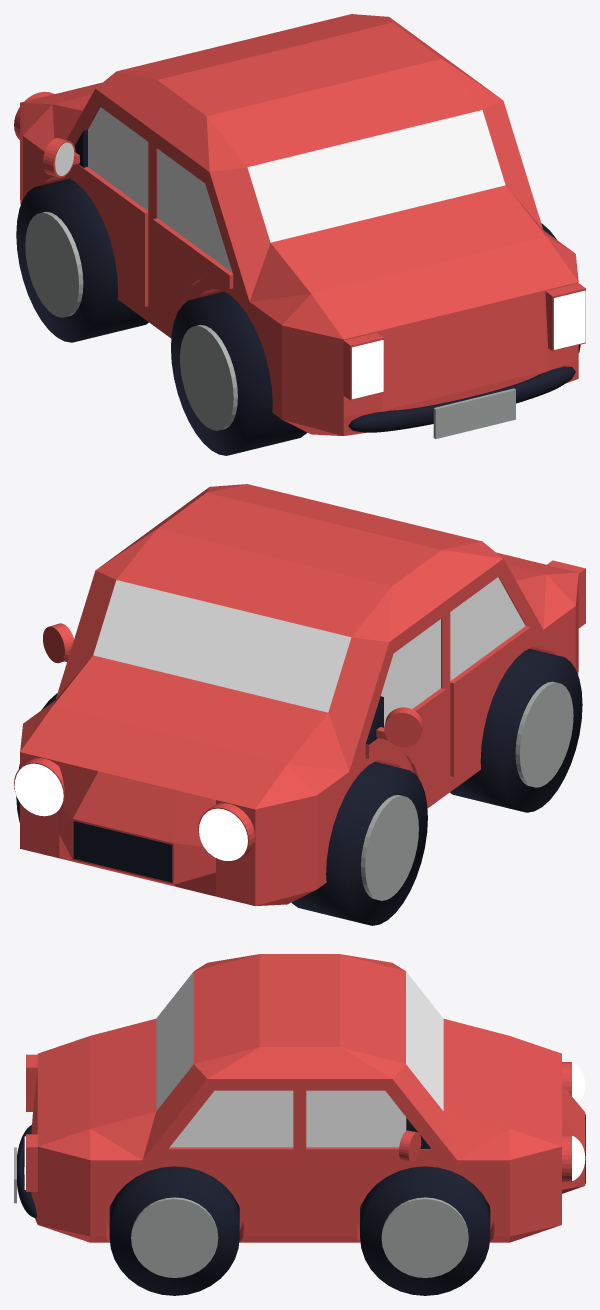
The model's file is car.glb.
3 views of the same model, one above another, from view 1: azimuth 30°, elevation 25°; view 2: azimuth 150°, elevation 25°; view 3: azimuth 270°, elevation 25° (orthographic). The views are drawn at different scales.
Visible parts, largest first — view 1: car, front back windows, tire_back_left, tire_front_left, door_front_left, door_back_left, backlight, bumper, license plate, backlight cover; view 2: car, front back windows, tire_front_left, tire_back_left, door_back_left, door_front_left, headlight, grill, headlight cover, door_front_right, backlight cover; view 3: car, tire_front_right, tire_back_right, door_front_right, door_back_right, front back windows, backlight cover, headlight, bumper, headlight cover.
Part boxes in pixels (left/top/right/bottom): car: left=20, top=14, right=578, bottom=435; front back windows: left=247, top=110, right=505, bottom=242; tire_back_left: left=171, top=292, right=307, bottom=455; tire_front_left: left=16, top=178, right=148, bottom=342; door_front_left: left=43, top=107, right=148, bottom=306; door_back_left: left=153, top=149, right=233, bottom=327; backlight: left=352, top=290, right=585, bottom=398; bumper: left=348, top=366, right=575, bottom=432; license plate: left=433, top=388, right=515, bottom=438; backlight cover: left=343, top=283, right=585, bottom=400; car: left=20, top=484, right=578, bottom=905; front back windows: left=93, top=580, right=351, bottom=712; tire_front_left: left=291, top=762, right=427, bottom=925; tire_back_left: left=450, top=648, right=582, bottom=812; door_back_left: left=450, top=577, right=530, bottom=776; door_front_left: left=365, top=619, right=445, bottom=796; headlight: left=14, top=763, right=247, bottom=860; grill: left=73, top=821, right=172, bottom=882; headlight cover: left=14, top=758, right=254, bottom=861; door_front_right: left=43, top=623, right=73, bottom=663; backlight cover: left=547, top=560, right=585, bottom=628; car: left=31, top=954, right=585, bottom=1242; tire_front_right: left=360, top=1166, right=490, bottom=1295; tire_back_right: left=109, top=1166, right=239, bottom=1295; door_front_right: left=306, top=1090, right=430, bottom=1225; door_back_right: left=169, top=1090, right=293, bottom=1225; front back windows: left=156, top=971, right=443, bottom=1110; backlight cover: left=26, top=1054, right=37, bottom=1191; headlight: left=572, top=1063, right=585, bottom=1180; bumper: left=17, top=1125, right=36, bottom=1217; headlight cover: left=562, top=1062, right=571, bottom=1182.
Bounding box in the file's own units: 1.8 × 1.29 × 2.91.
